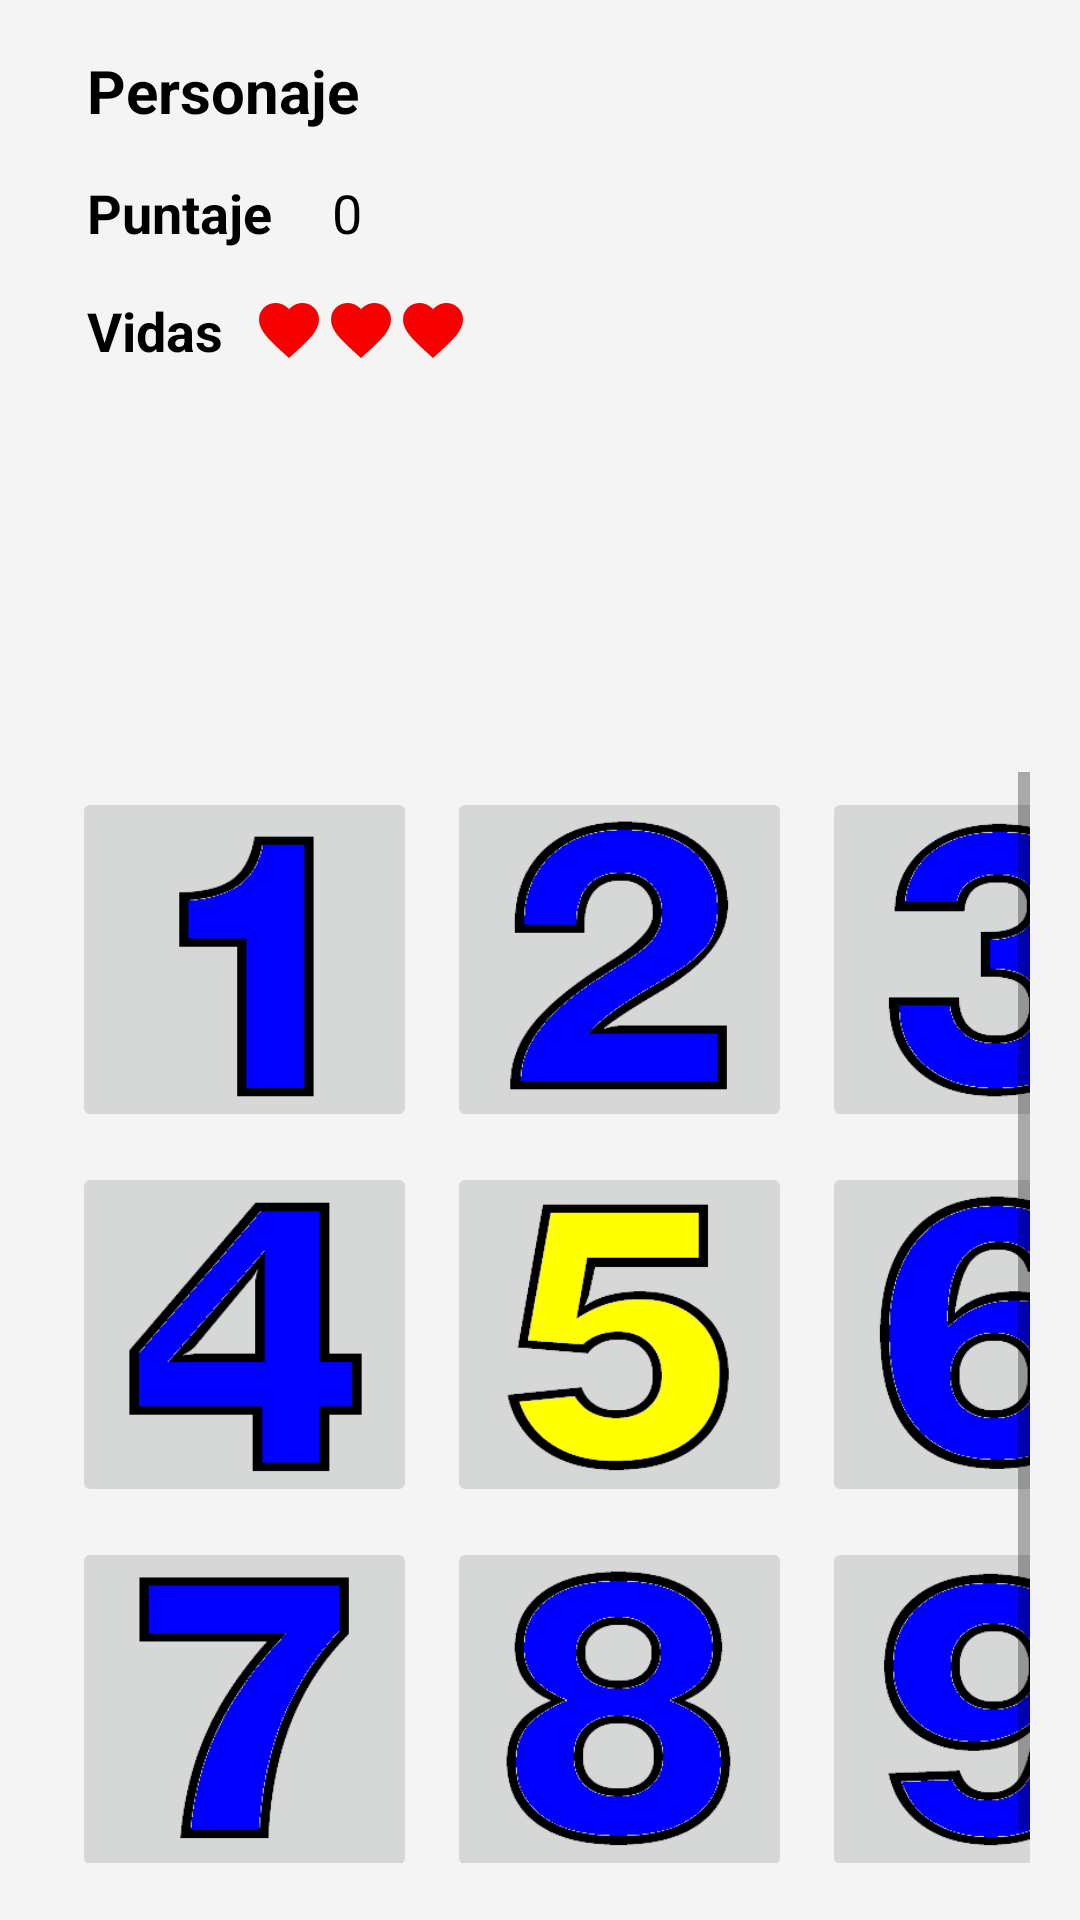

Named icons in this screenshot (1080 × 1920) and their centers, point (x, y):
favorite: point (289, 330), point (361, 330), point (433, 330)
